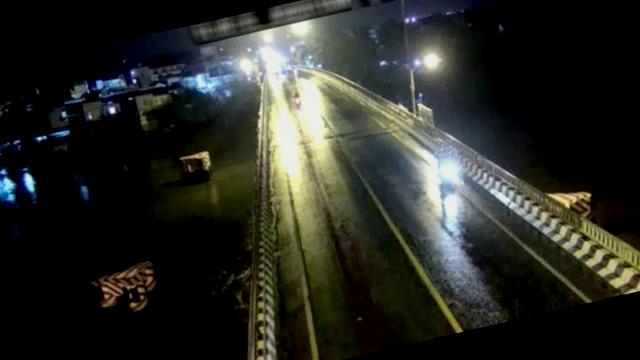Bike: (431, 150, 464, 190)
